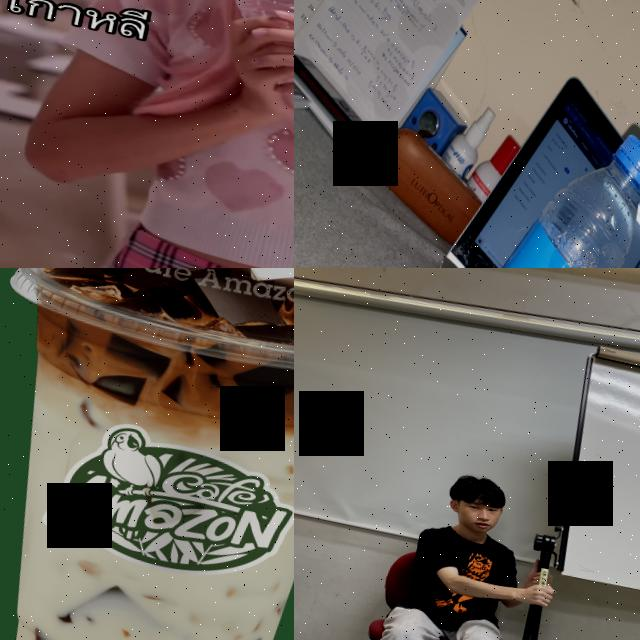bottle: (373, 93, 640, 268), (192, 0, 294, 124)
cup: (0, 268, 294, 640)
